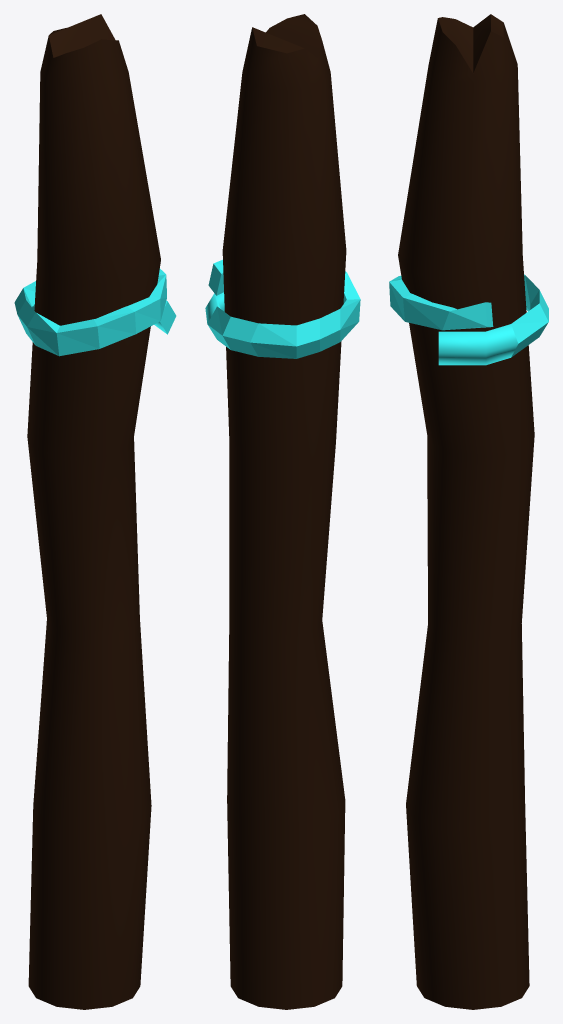
Rendered from Poteau_Ferme_01.fbx.
The picture shows the model from 3 angles, left to right: view 1: azimuth 30°, elevation 25°; view 2: azimuth 150°, elevation 25°; view 3: azimuth 270°, elevation 25°; orthographic projection.
Parts seen in each view (by area): view 1: Poteau_Ferme_01; view 2: Poteau_Ferme_01; view 3: Poteau_Ferme_01.
Boxes of the visible parts, <box> form: Poteau_Ferme_01: <box>14,14,176,1009</box>; Poteau_Ferme_01: <box>205,14,360,1009</box>; Poteau_Ferme_01: <box>389,14,548,1009</box>.
Size of the model in its own units: 14.27 by 100 by 15.
